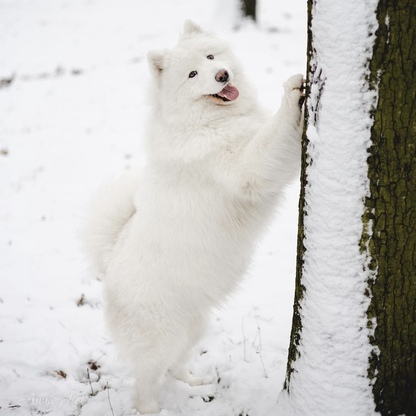samoyed: (78, 10, 316, 416)
